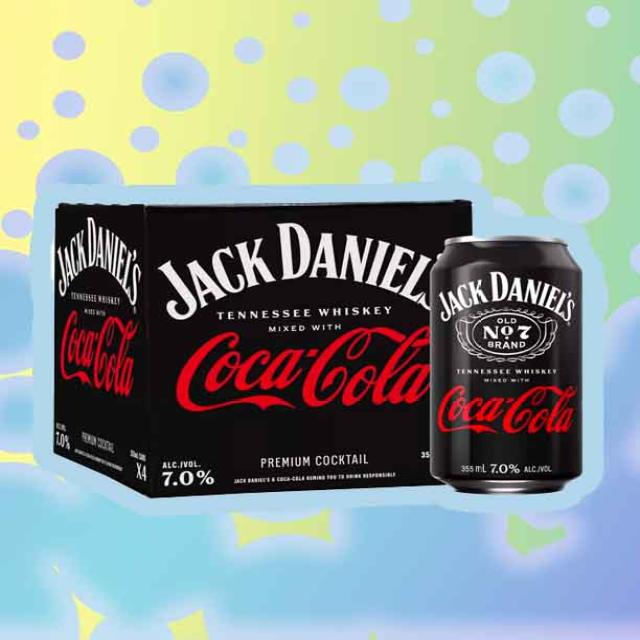Cans: (426, 227, 598, 508)
